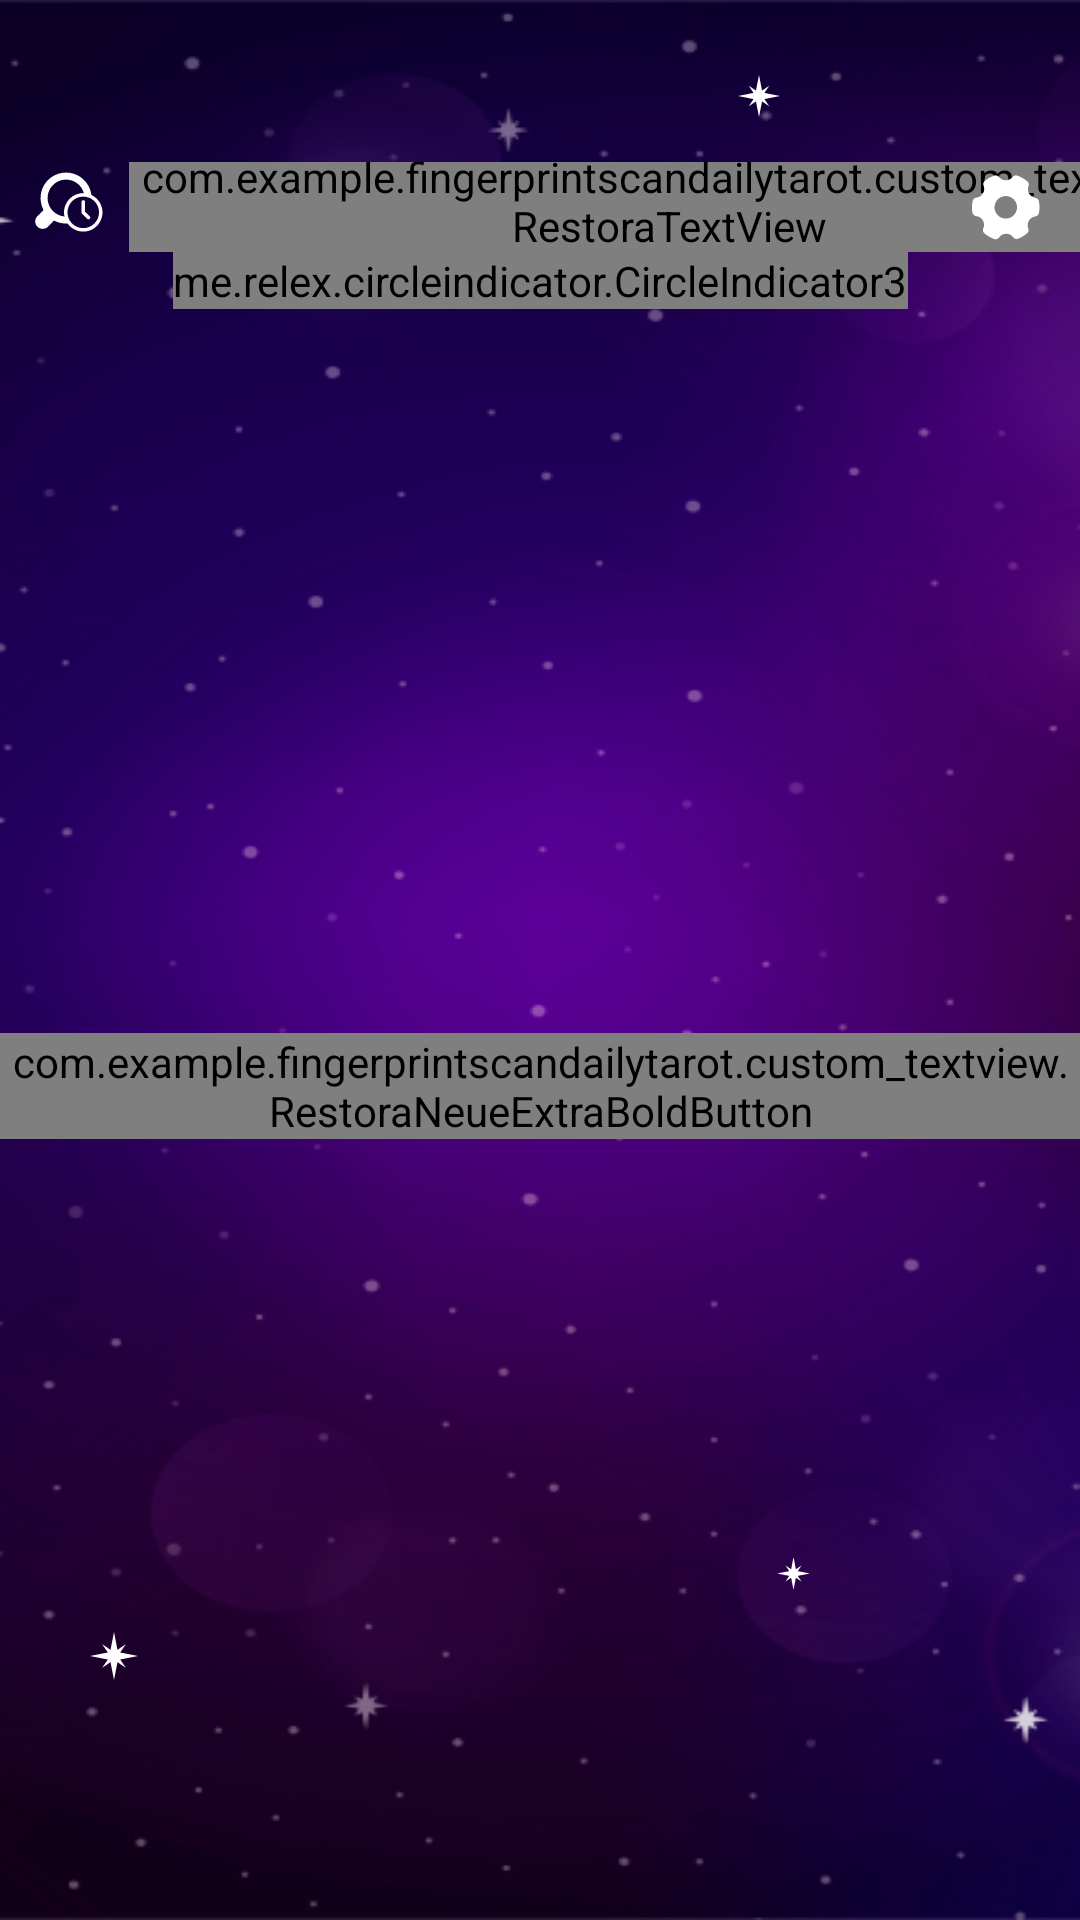

Screen size 1080x1920. Icon name, then its box in pixels as bbox=[x1, y1, x2, y2]:
search: bbox=[35, 168, 105, 232]
star: bbox=[739, 75, 779, 117], bbox=[777, 1557, 810, 1590], bbox=[91, 1632, 137, 1679]
